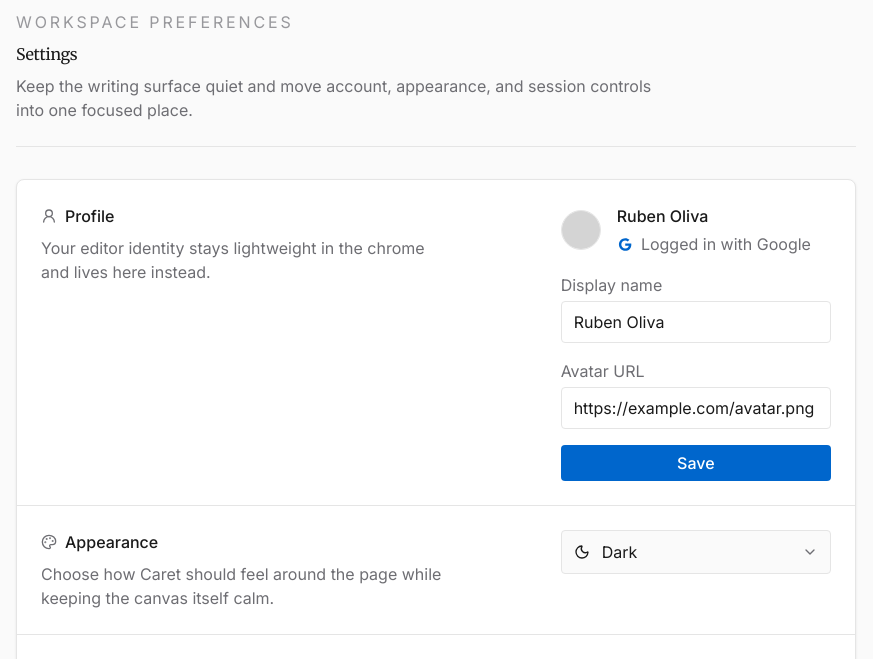
Test: SettingsPage › validates invalid avatar URL on save
Replace the text in the field labelled "Avatar URL" with "not-a-url": (696, 408) [561,386,831,428]
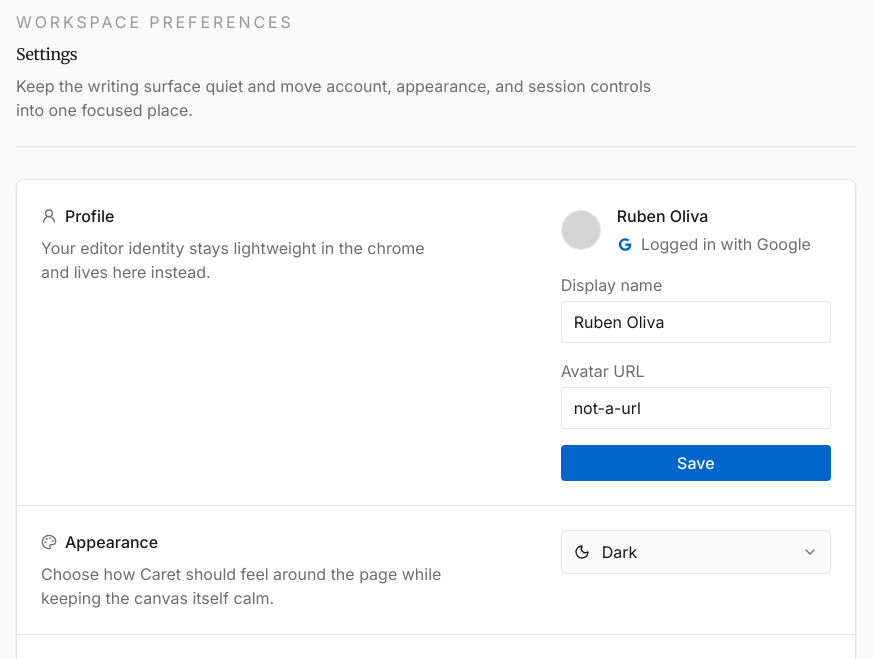
Click the button "Save": click(696, 462) [561,444,831,480]
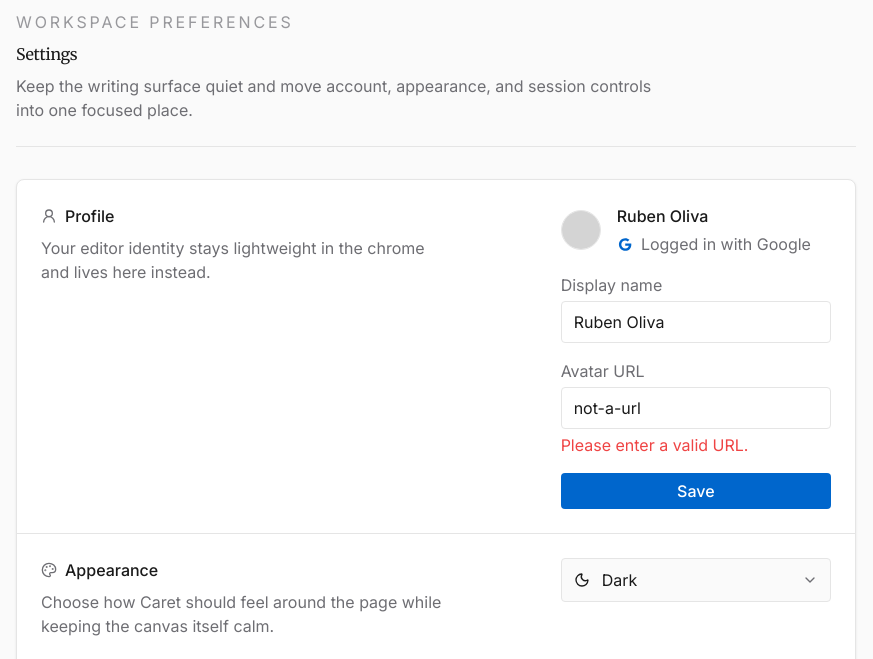
Result: the message shows "valid URL" at [561,434,748,454]
